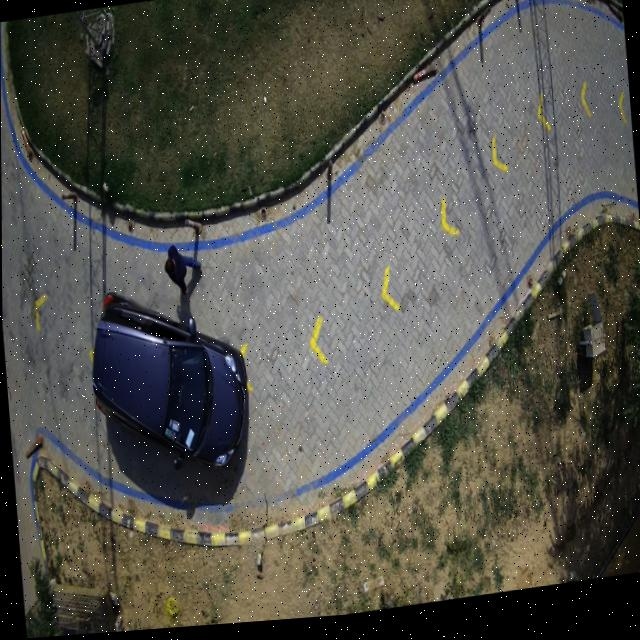car: (91, 295, 247, 473)
